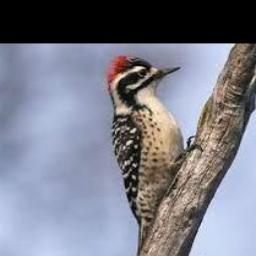Woodpecker: (104, 55, 202, 252)
